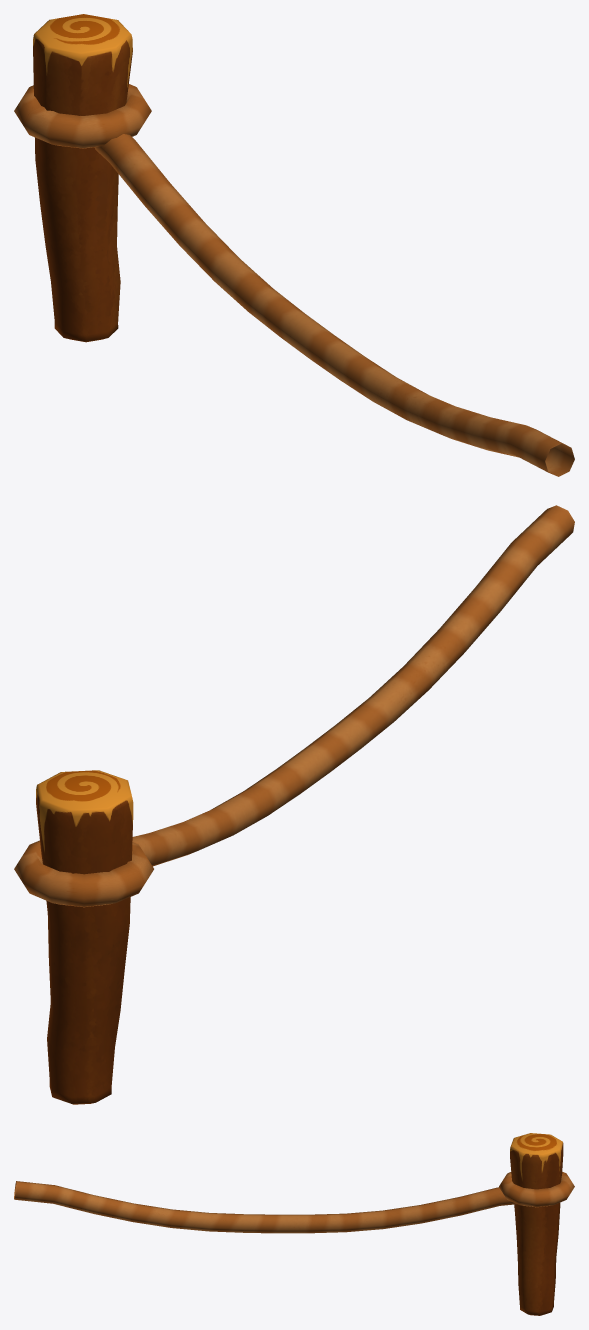
Rendered from campfencemod.fbx.
3 renders of one model, top to bottom at view 1: azimuth 30°, elevation 25°; view 2: azimuth 150°, elevation 25°; view 3: azimuth 270°, elevation 25°, orthographic. The views are drawn at different scales.
Visible parts, largest first — view 1: log.019, BezierCurve.002, Torus; view 2: log.019, BezierCurve.002, Torus; view 3: BezierCurve.002, log.019, Torus.
Part boxes in pixels (<box>): log.019: <box>33,14,132,342</box>; BezierCurve.002: <box>94,134,574,476</box>; Torus: <box>14,84,151,148</box>; log.019: <box>36,770,133,1104</box>; BezierCurve.002: <box>132,505,574,866</box>; Torus: <box>14,840,153,907</box>; BezierCurve.002: <box>14,1181,516,1233</box>; log.019: <box>510,1133,563,1315</box>; Torus: <box>499,1172,574,1207</box>.
Bounding box in the file's own units: 168 × 411 × 1234.
